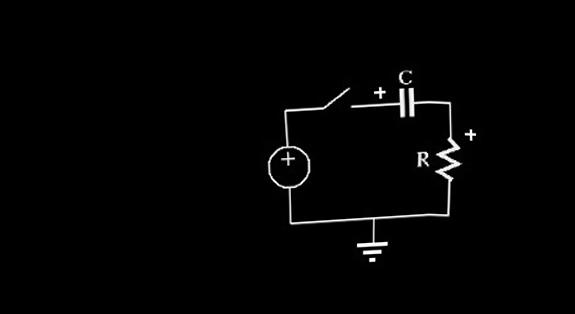Battery: (253, 136, 322, 198)
